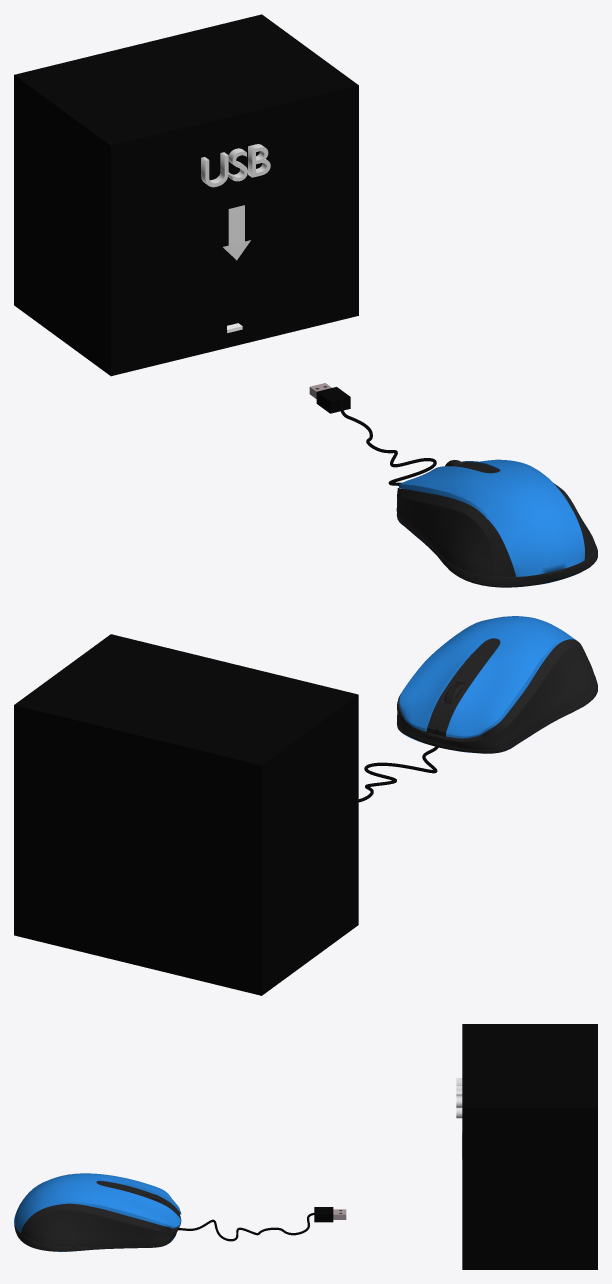
3 views of the same model, one above another, from view 1: azimuth 30°, elevation 25°; view 2: azimuth 150°, elevation 25°; view 3: azimuth 270°, elevation 25° (orthographic). The views are drawn at different scales.
Visible parts, largest first — view 1: Cube.004, BézierCurve, USB, Cone, BézierCurve.001, NurbsPath; view 2: Cube.004, BézierCurve, NurbsPath; view 3: Cube.004, BézierCurve, NurbsPath, BézierCurve.001.
Boxes of the visible parts, x1,y1,x2,y2 form: Cube.004: [14, 14, 358, 376]; BézierCurve: [396, 459, 597, 587]; USB: [201, 144, 270, 187]; Cone: [223, 205, 250, 260]; BézierCurve.001: [309, 383, 350, 413]; NurbsPath: [339, 402, 436, 485]; Cube.004: [14, 634, 358, 995]; BézierCurve: [397, 616, 597, 753]; NurbsPath: [358, 745, 438, 802]; Cube.004: [462, 1024, 597, 1269]; BézierCurve: [14, 1173, 181, 1251]; NurbsPath: [178, 1213, 314, 1241]; BézierCurve.001: [314, 1207, 346, 1222].
Size of what is drawn, in the model's own units: 12.52 by 11.31 by 36.51.
